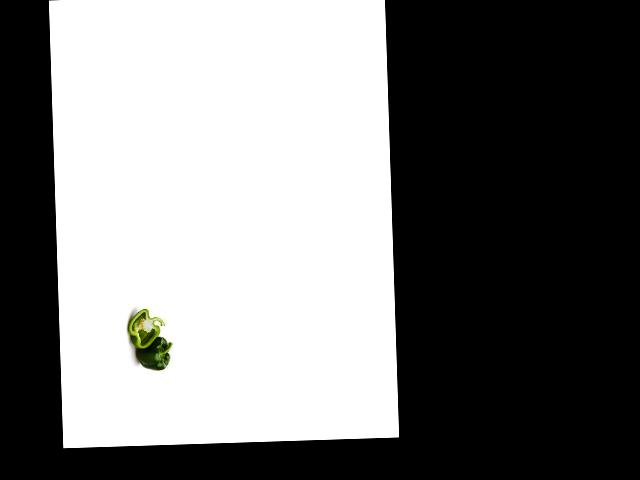bell_pepper: (128, 306, 167, 350)
